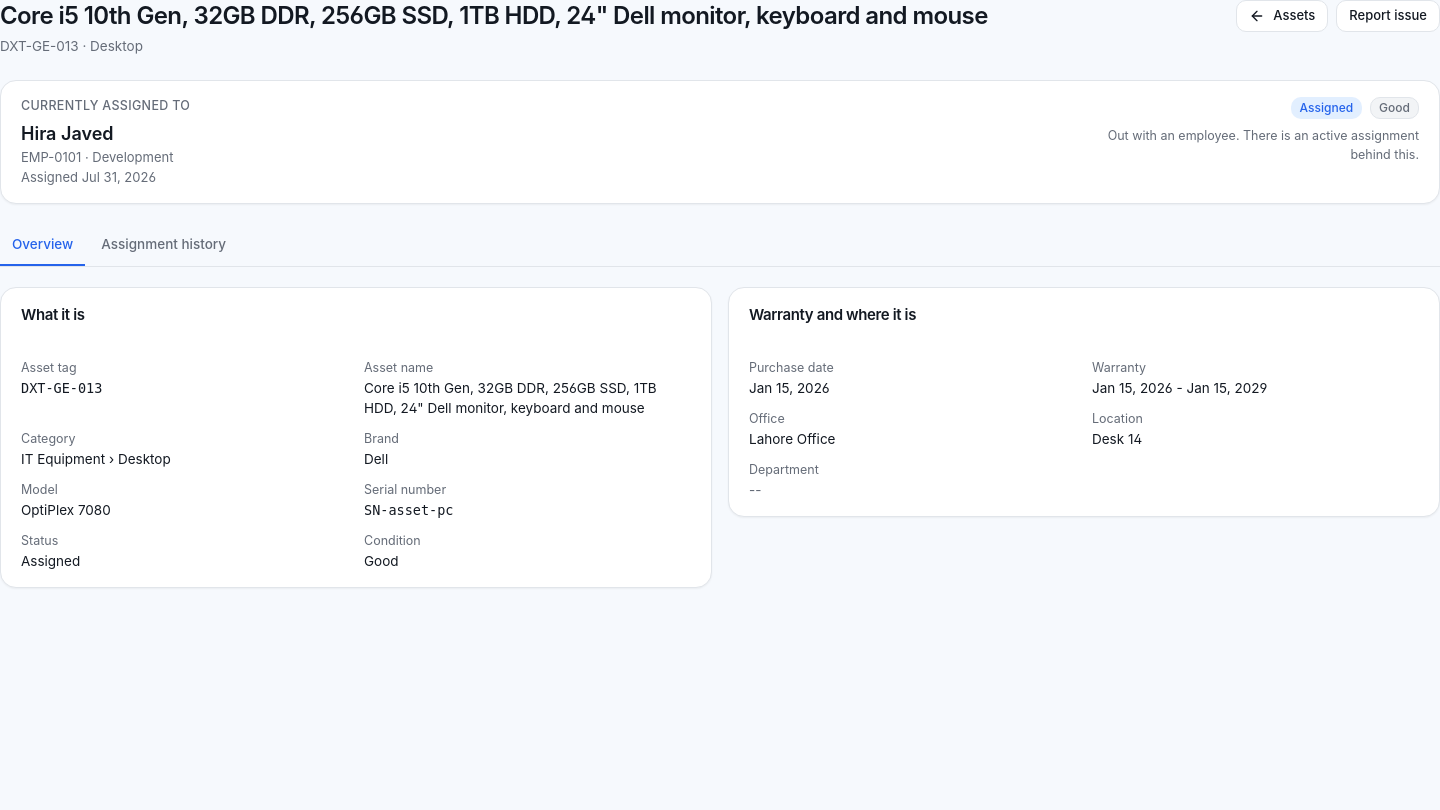
Test: reporting an issue from the asset itself › the employee holding it is offered Report issue, which posts against their own handover
Later steps or results of the test are not shown.
Click the button "Report issue": (1388, 16) [1336,0,1439,32]
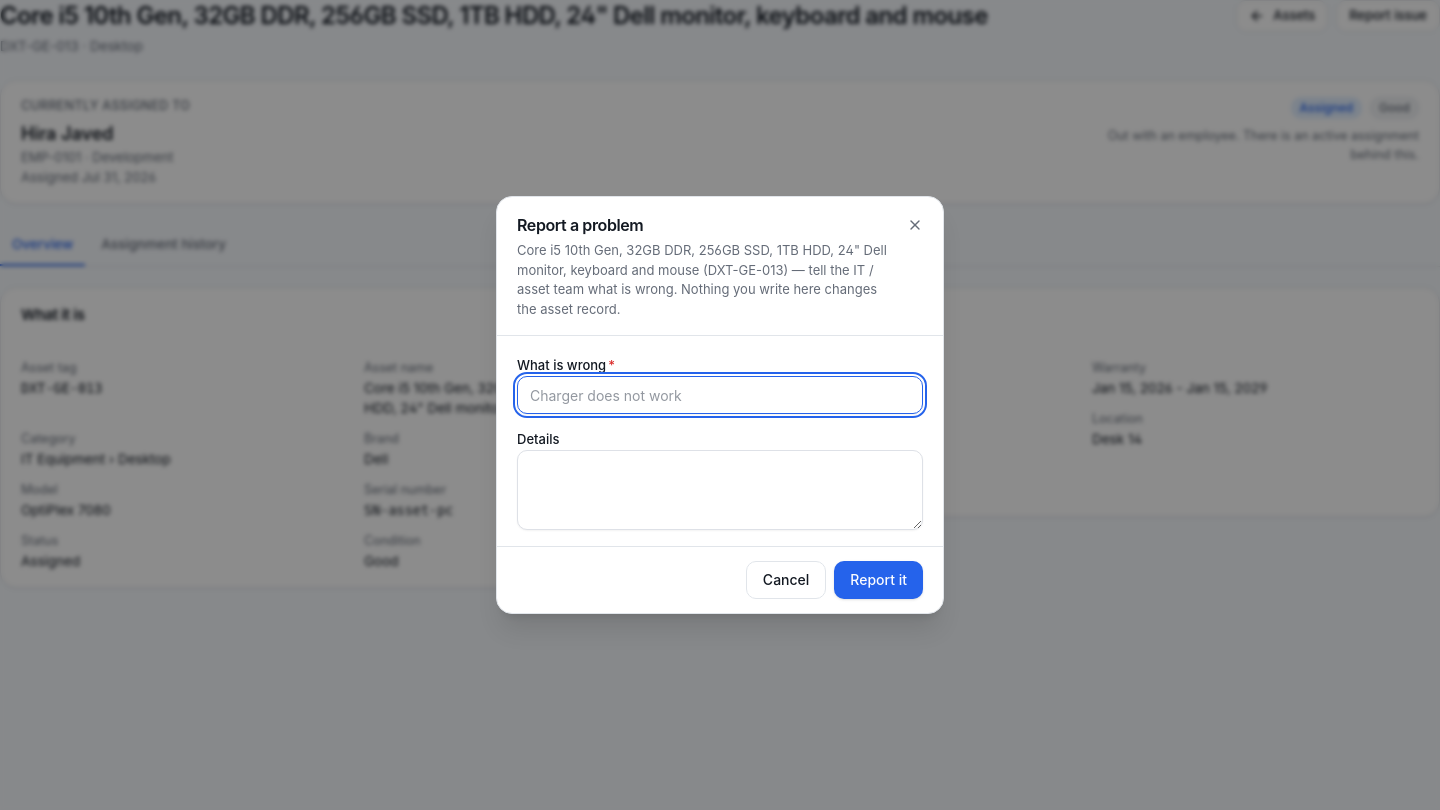
Now the dialog shows "DXT-GE-013", box [517,242,887,278]
